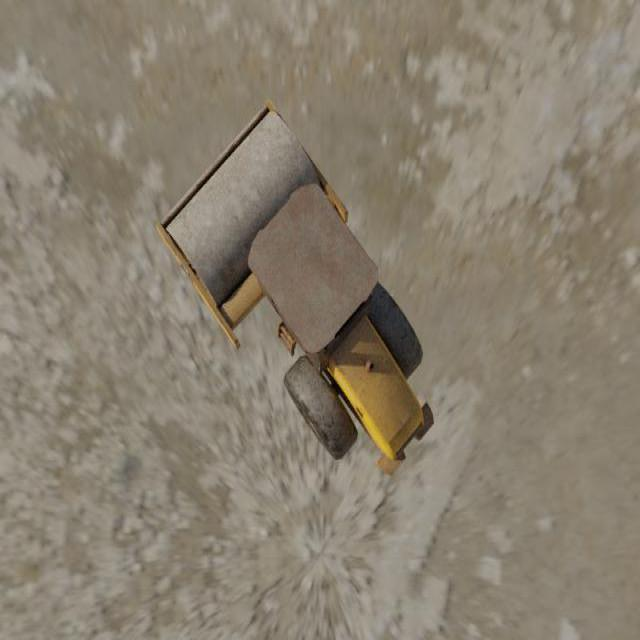Roller: (155, 98, 434, 474)
